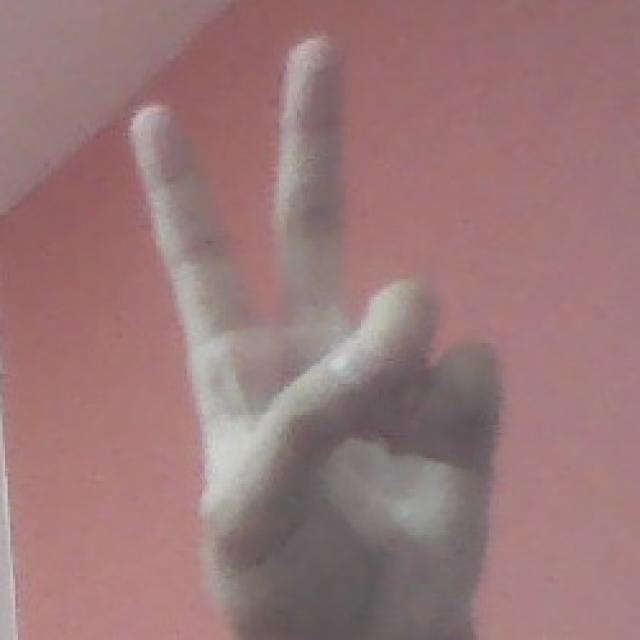Numeric-2: (128, 31, 498, 616)
